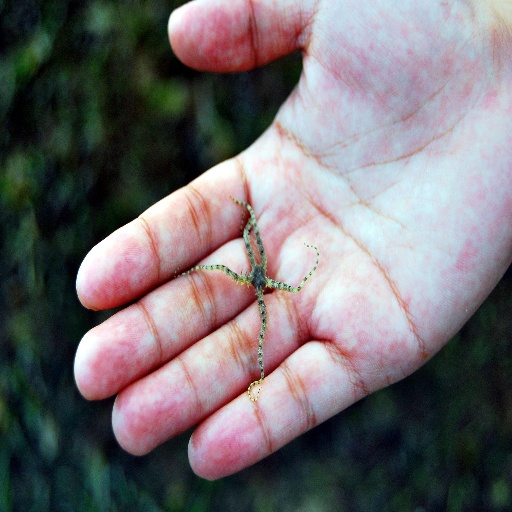hand: (34, 9, 498, 486)
